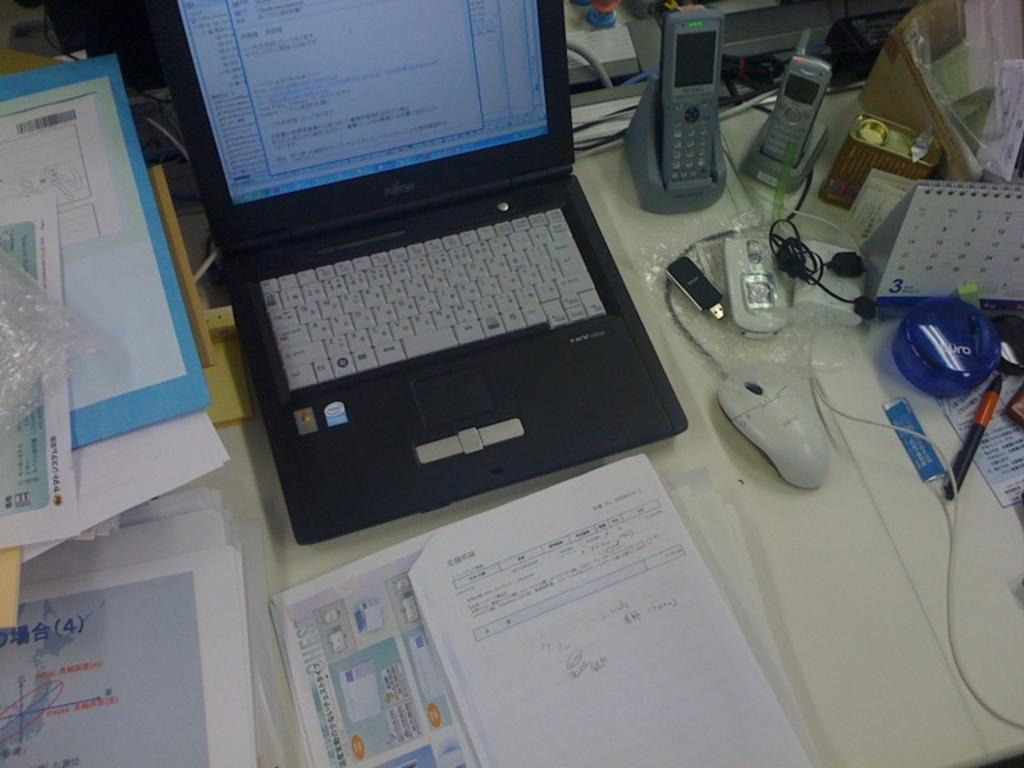Laptop: (178, 22, 689, 572)
